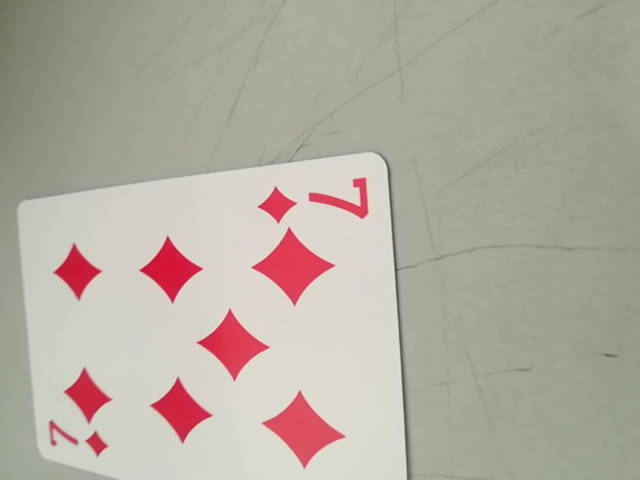fk 7: (253, 166, 373, 227), (36, 419, 110, 465)
